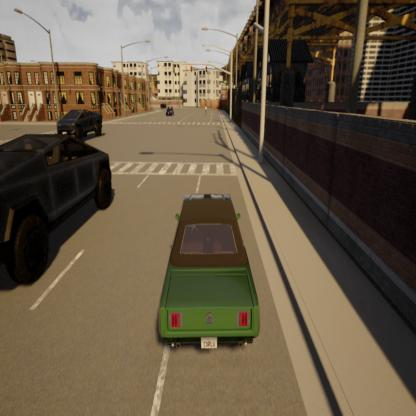Cars: (0, 81, 116, 327), (148, 172, 273, 372), (48, 84, 110, 147), (163, 93, 179, 121)
